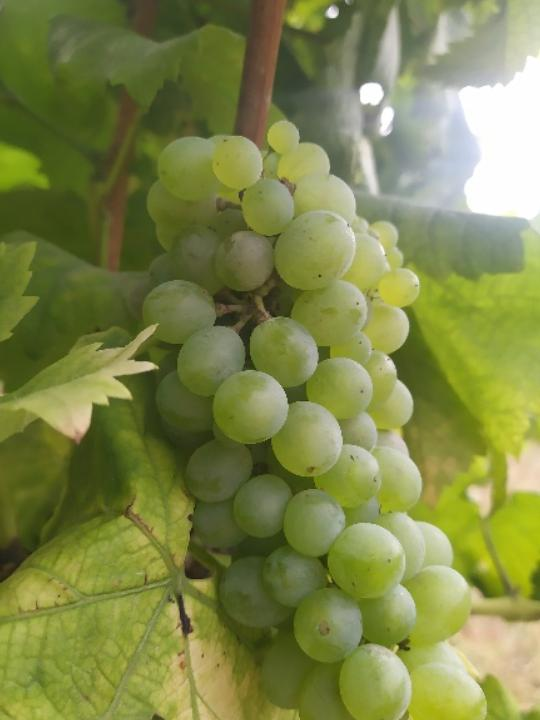grape: (141, 116, 493, 720)
